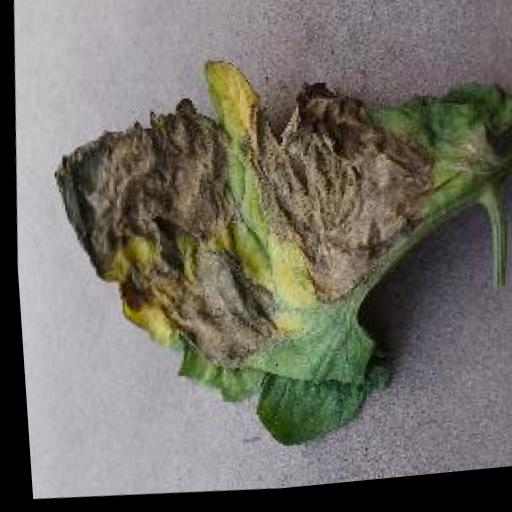Late Blight: (25, 32, 512, 486)
